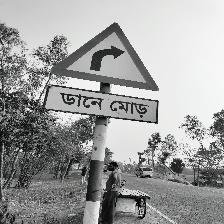Right-turn: (43, 23, 161, 124)
